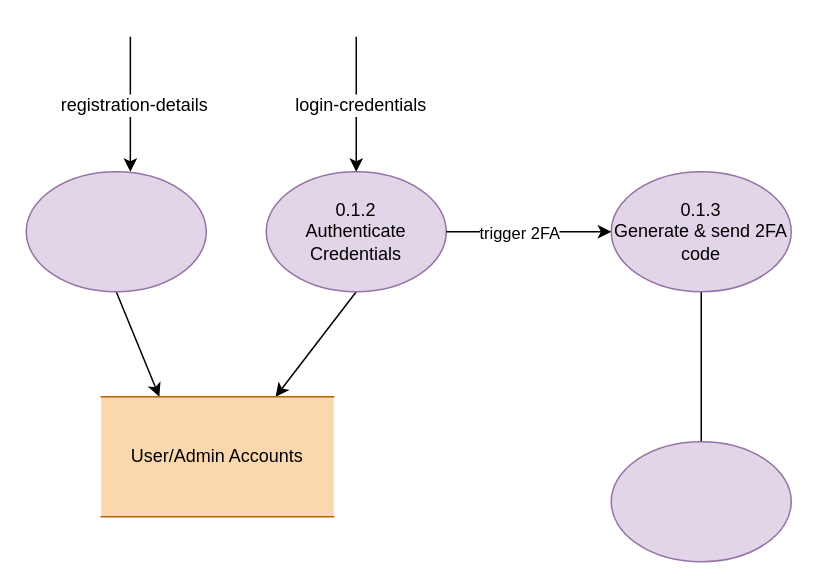
The diagram is 818 pixels wide and 588 high, and some of its shapes have lost their labels. The shapes that lost their labels are listed below. From the top down, each one's centre as x and y in pixels, then its label:
(x=115, y=231): 0.1.1 Register Account
(x=700, y=501): 0.1.4 Verify 2FA code
